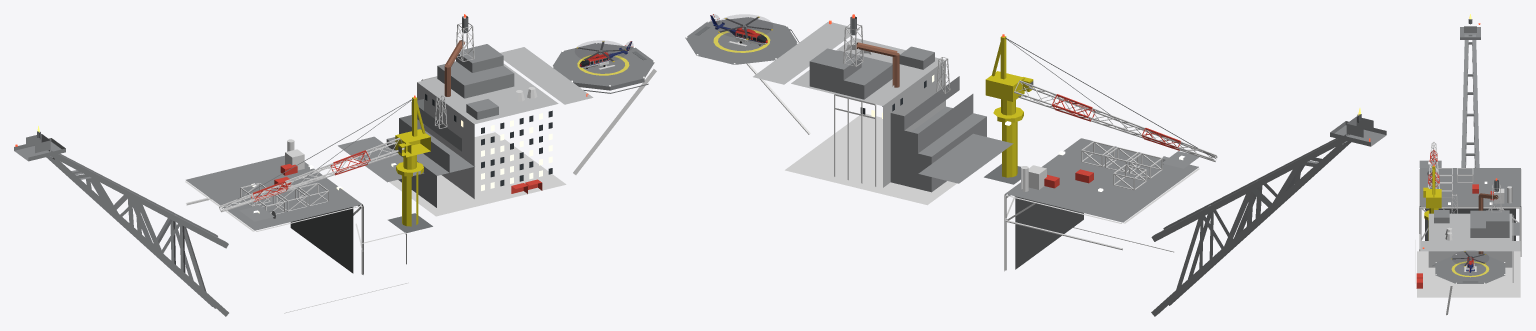
File: cctv.glb
3 renders of one model, left to right at view 1: azimuth 30°, elevation 25°; view 2: azimuth 150°, elevation 25°; view 3: azimuth 270°, elevation 25°, orthographic. The views are drawn at different scales.
Parts seen in each view (by area): view 1: Platform_PlatSteel, Platform_PlatWhite, Platform_PlatModule, Platform_PlatQuarters, Platform_PlatHelideck, Platform_PlatInterior, Platform_PlatCrane, Platform_PlatOrange, HeliMainDisc, Platform_PlatGlass, Platform_PlatWindow, Platform_PlatDark; view 2: Platform_PlatSteel, Platform_PlatModule, Platform_PlatWhite, Platform_PlatQuarters, Platform_PlatHelideck, Platform_PlatInterior, Platform_PlatCrane, Platform_PlatOrange, HeliMainDisc, Platform_PlatDark, Platform_PlatBrown, HeliBody; view 3: Platform_PlatSteel, Platform_PlatWhite, Platform_PlatQuarters, Platform_PlatModule, Platform_PlatHelideck, Platform_PlatCrane, HeliMainDisc, Platform_PlatInterior, Platform_PlatOrange, Platform_PlatBrown, Platform_PlatMarking, Platform_PlatDark (+2 smaller).
Part boxes in pixels (x1=…): Platform_PlatSteel: x1=14, y1=83, x2=648, y2=316; Platform_PlatWhite: x1=185, y1=23, x2=656, y2=313; Platform_PlatModule: x1=26, y1=44, x2=514, y2=221; Platform_PlatQuarters: x1=417, y1=47, x2=593, y2=198; Platform_PlatHelideck: x1=553, y1=43, x2=654, y2=90; Platform_PlatInterior: x1=290, y1=207, x2=353, y2=273; Platform_PlatCrane: x1=395, y1=97, x2=430, y2=226; Platform_PlatOrange: x1=251, y1=150, x2=542, y2=201; HeliMainDisc: x1=575, y1=41, x2=626, y2=61; Platform_PlatGlass: x1=425, y1=94, x2=552, y2=186; Platform_PlatWindow: x1=461, y1=113, x2=552, y2=190; Platform_PlatDark: x1=37, y1=16, x2=646, y2=232; Platform_PlatSteel: x1=789, y1=29, x2=1386, y2=316; Platform_PlatModule: x1=809, y1=46, x2=1373, y2=197; Platform_PlatWhite: x1=729, y1=24, x2=1217, y2=271; Platform_PlatQuarters: x1=753, y1=21, x2=945, y2=187; Platform_PlatHelideck: x1=685, y1=17, x2=797, y2=64; Platform_PlatInterior: x1=1015, y1=196, x2=1083, y2=269; Platform_PlatCrane: x1=985, y1=36, x2=1033, y2=177; Platform_PlatOrange: x1=1044, y1=94, x2=1180, y2=188; HeliMainDisc: x1=716, y1=15, x2=772, y2=37; Platform_PlatDark: x1=694, y1=16, x2=1361, y2=184; Platform_PlatBrown: x1=856, y1=42, x2=899, y2=87; HeliBody: x1=710, y1=15, x2=767, y2=44; Platform_PlatSteel: x1=1420, y1=27, x2=1520, y2=266; Platform_PlatWhite: x1=1415, y1=142, x2=1521, y2=315; Platform_PlatQuarters: x1=1420, y1=213, x2=1520, y2=267; Platform_PlatModule: x1=1419, y1=26, x2=1519, y2=237; Platform_PlatHelideck: x1=1435, y1=254, x2=1505, y2=283; Platform_PlatCrane: x1=1423, y1=166, x2=1441, y2=240; HeliMainDisc: x1=1452, y1=251, x2=1488, y2=265; Platform_PlatInterior: x1=1425, y1=208, x2=1515, y2=240; Platform_PlatOrange: x1=1416, y1=150, x2=1493, y2=288; Platform_PlatBrown: x1=1478, y1=193, x2=1498, y2=254; Platform_PlatMarking: x1=1451, y1=261, x2=1489, y2=277; Platform_PlatDark: x1=1462, y1=19, x2=1498, y2=282.
Bounding box in the file's own units: 200 × 70.51 × 40.85.
